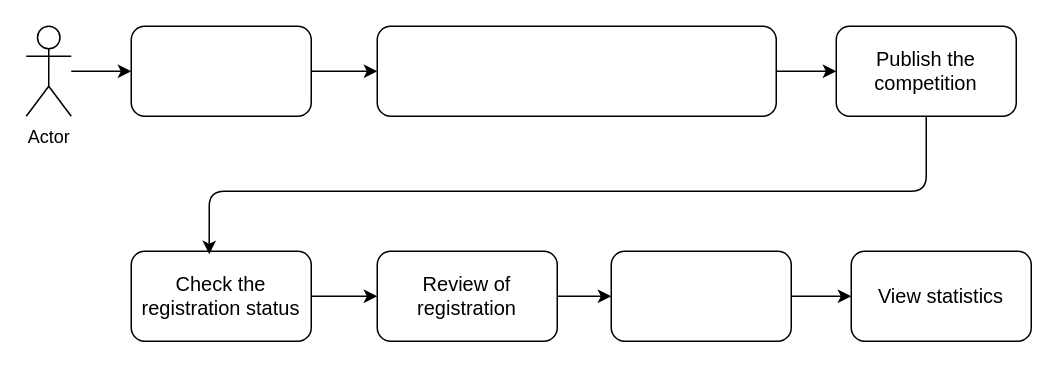
The diagram is 1058 pixels wide and 368 high, and some of its shapes have lost their labels. The box of each missing label's shape, as (x1, y1, x2, y2) in pixels:
Administrator login: (130, 25, 311, 116)
Create a competition (upload pictures, set the location, fill in the details): (376, 25, 776, 116)
Enter the winners: (610, 250, 791, 341)
